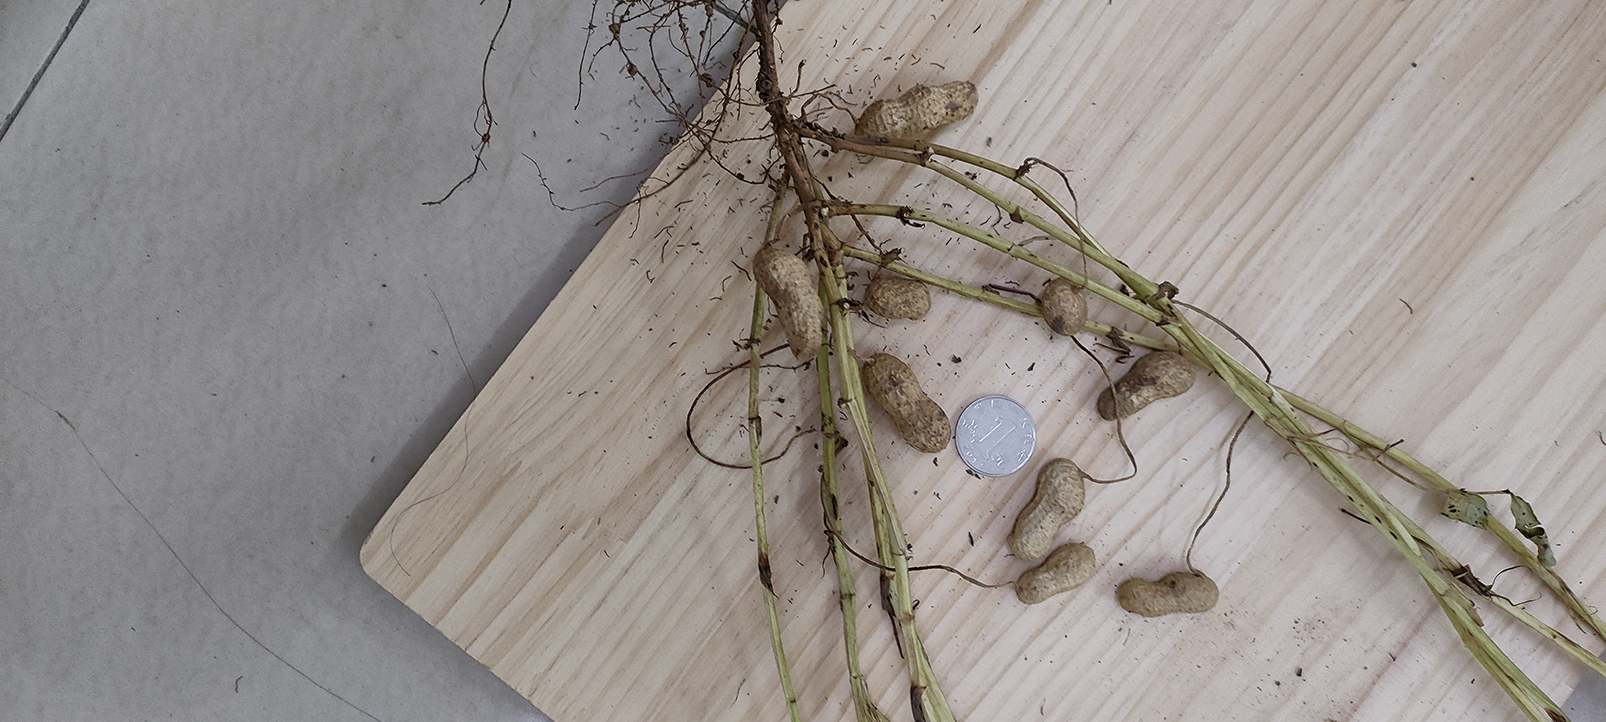h: (862, 352, 953, 449), (854, 78, 977, 146), (1008, 459, 1087, 561), (753, 245, 823, 358), (1114, 571, 1221, 615), (1015, 545, 1094, 603), (865, 277, 932, 321), (1039, 275, 1087, 334)
l: (1098, 346, 1198, 422)
